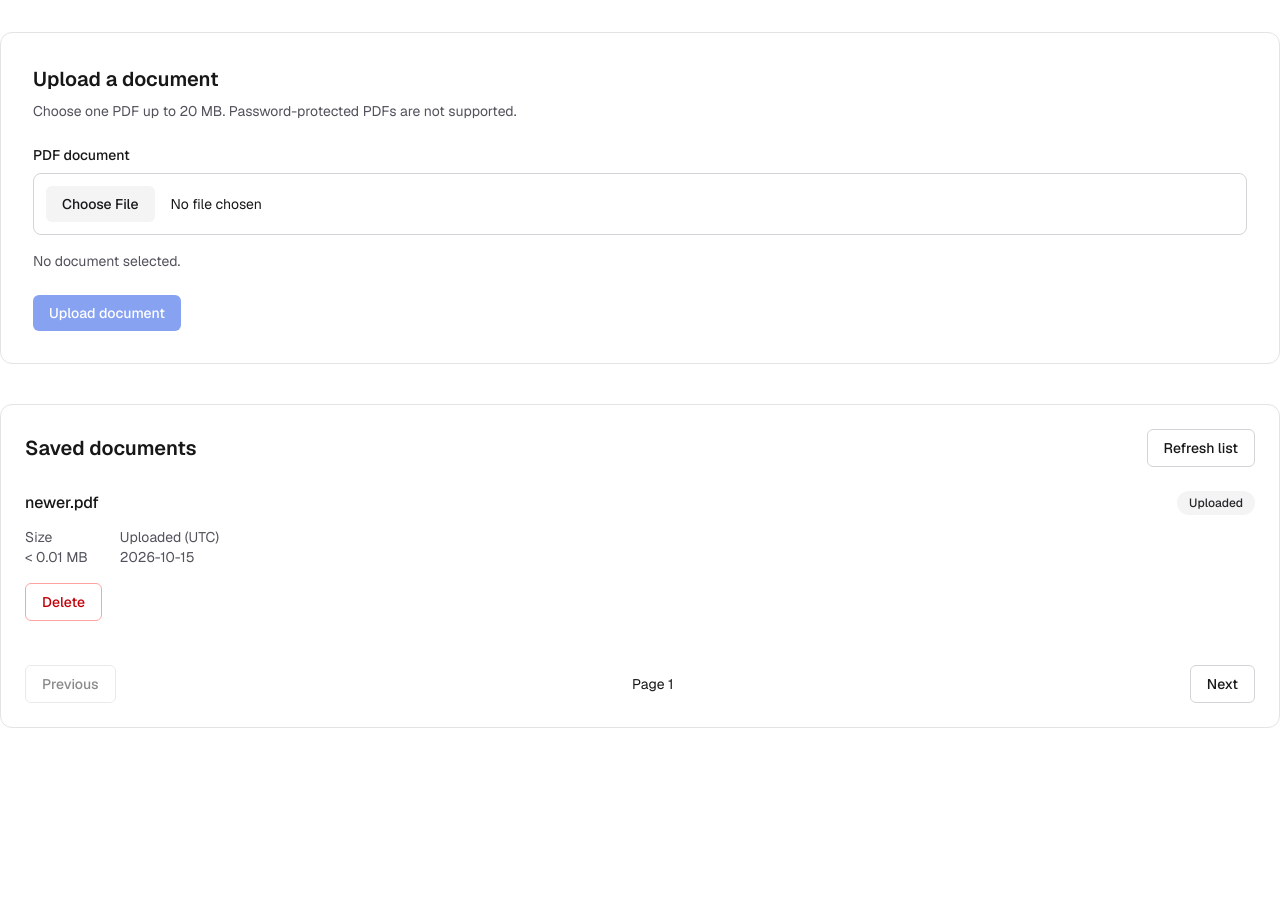
Test: stays on the current page when documents remain after a deletion
Expected: the heading "newer.pdf" is shown, [25, 491, 99, 515]
Click the button "Next" at (1222, 684), box [1190, 665, 1255, 703]
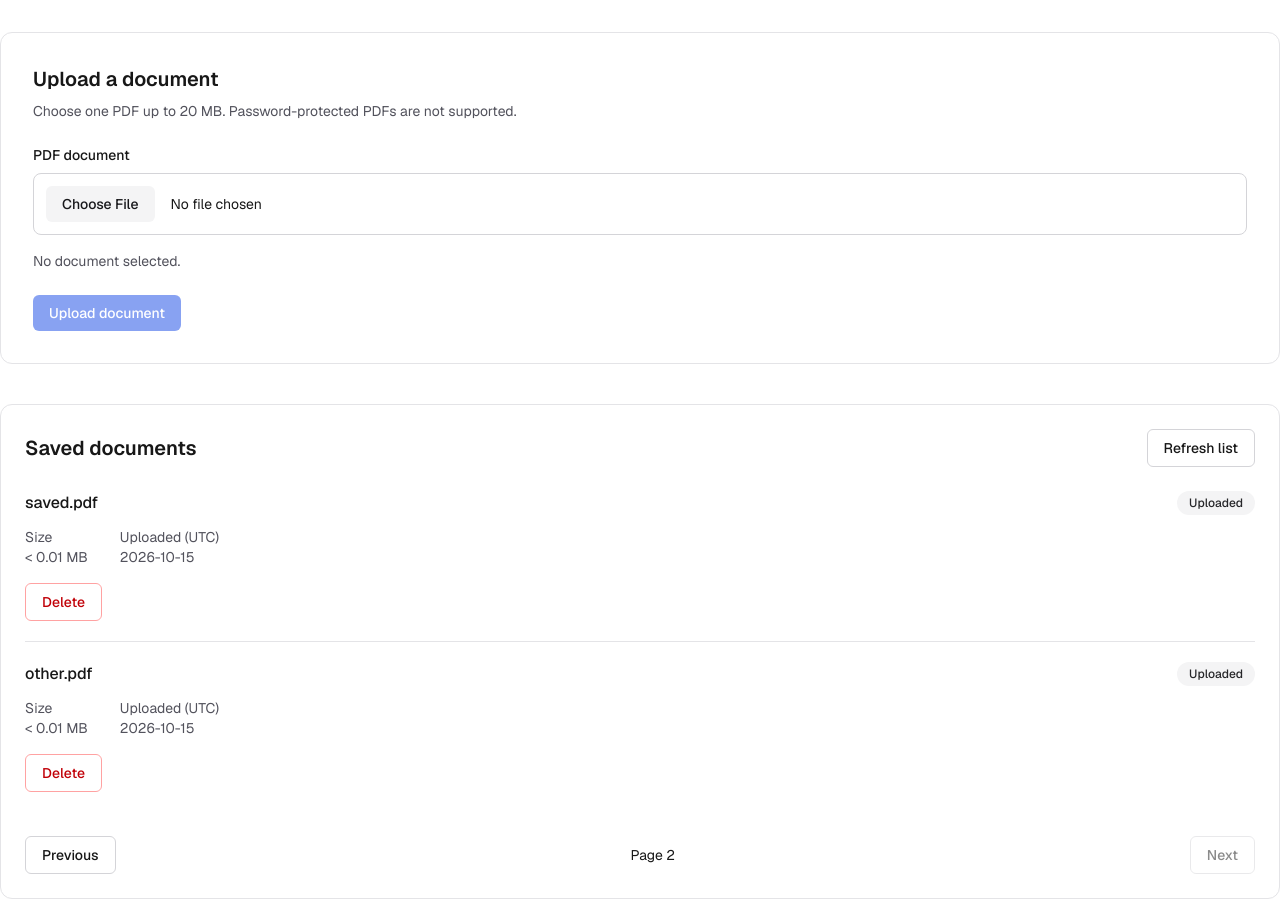
Click the button with aria-label "Delete saved.pdf" at (64, 602), box [25, 583, 102, 621]
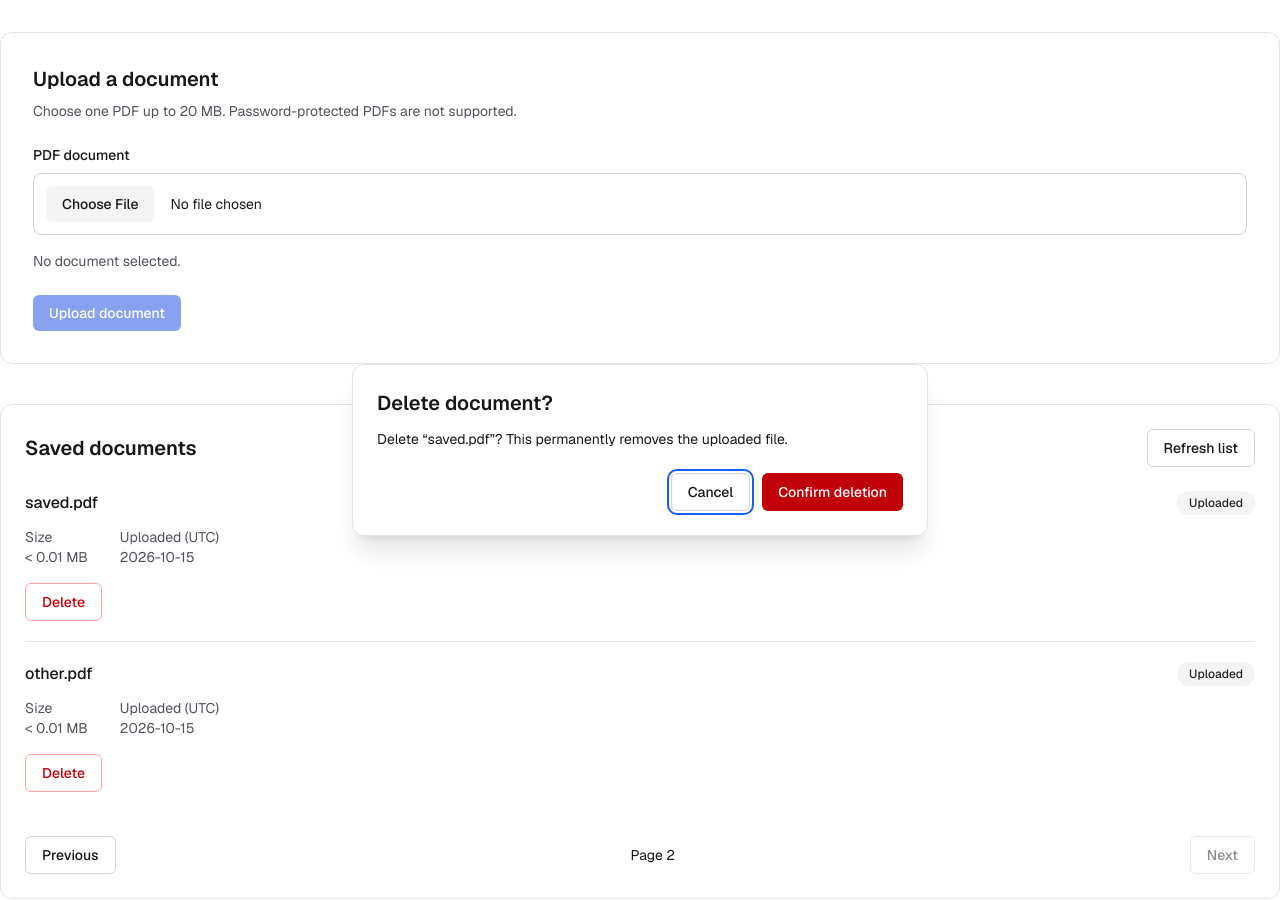
Click the button "Confirm deletion" at (833, 492), box [762, 473, 903, 511]
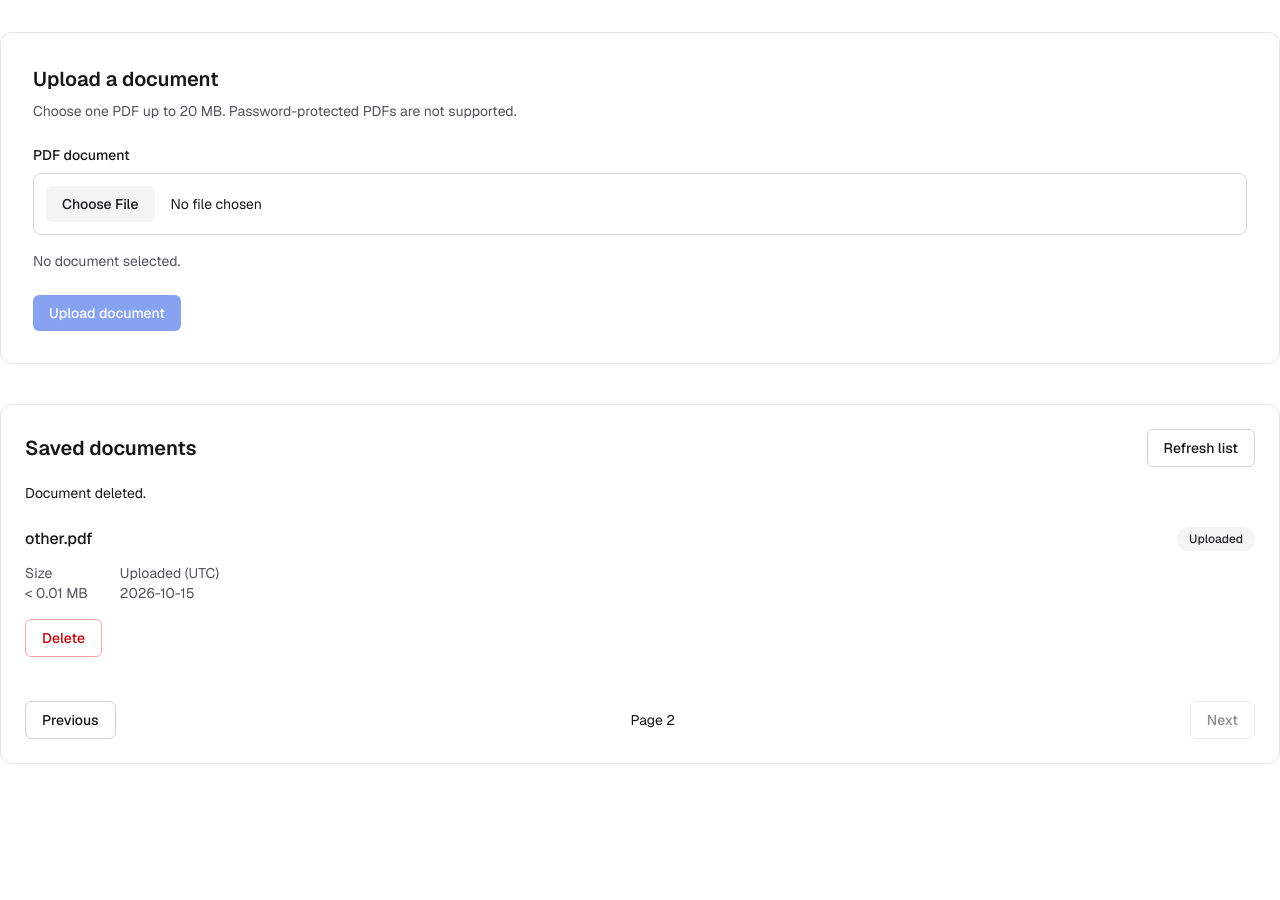
Expected: the heading "other.pdf" is shown, [25, 527, 93, 551]
Expected: the text "Page 2" is shown, [630, 710, 675, 730]
Expected: the heading "saved.pdf" is gone
